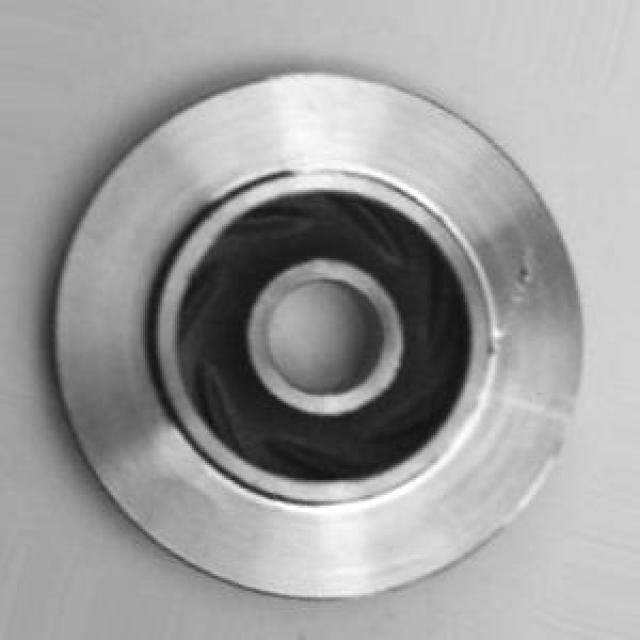Defect: (506, 249, 550, 301)
